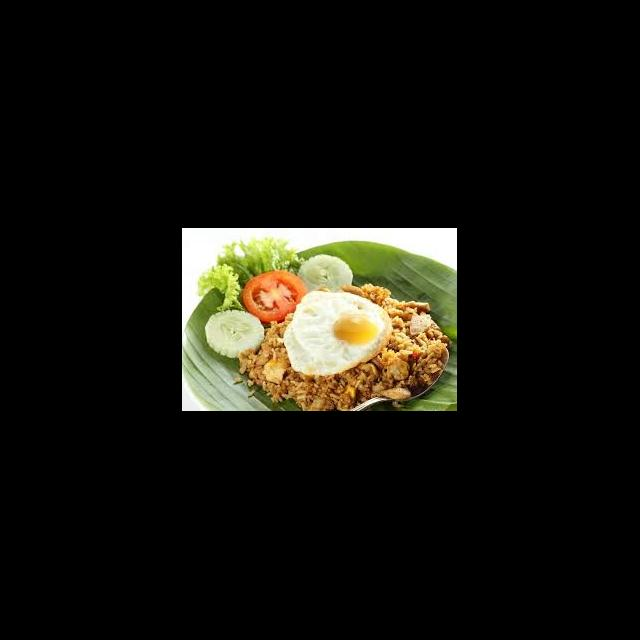food_waste: (239, 286, 415, 388)
